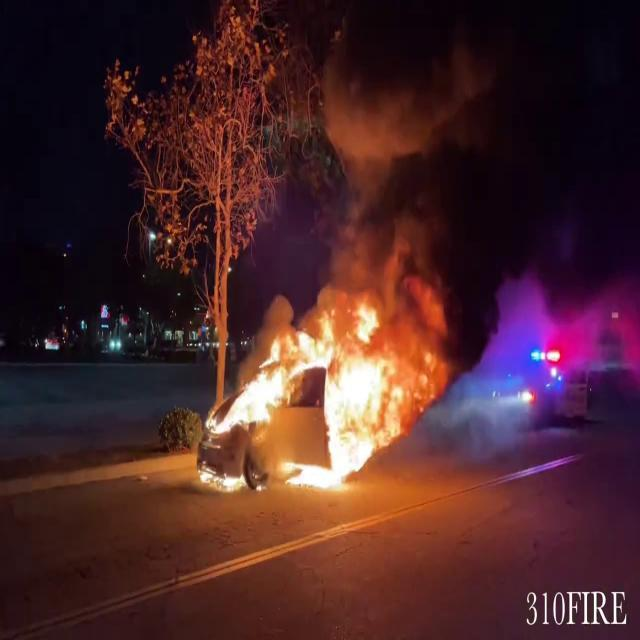Fire: (196, 300, 442, 492)
Smoke: (319, 1, 547, 343)
